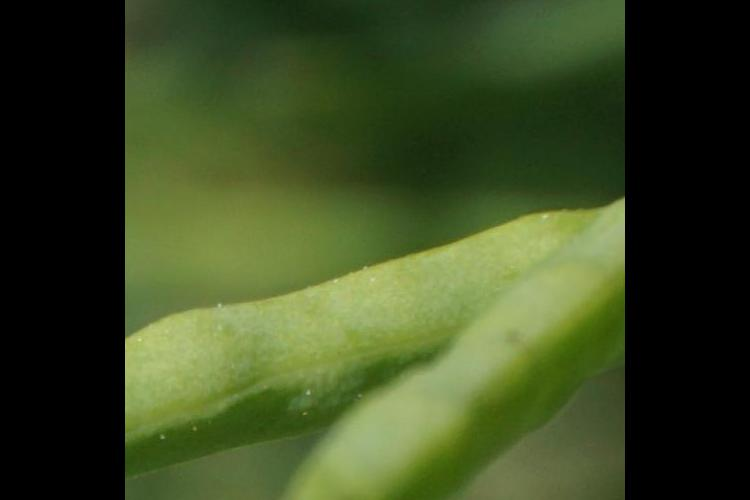pod: (204, 311, 585, 500)
